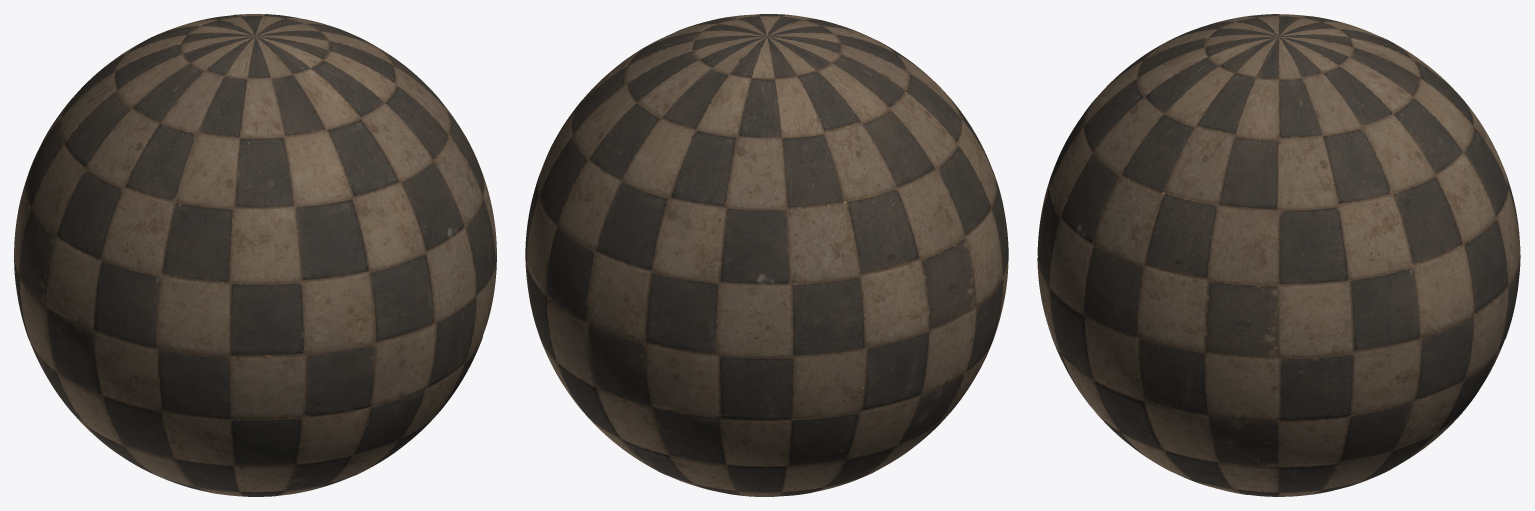
Rendered from checkered_pavement_tiles_1k.gltf.
3 renders of one model, left to right at view 1: azimuth 30°, elevation 25°; view 2: azimuth 150°, elevation 25°; view 3: azimuth 270°, elevation 25°, orthographic.
Parts seen in each view (by area): view 1: sphere_gltf; view 2: sphere_gltf; view 3: sphere_gltf.
Part boxes in pixels (left/top/right/bottom): sphere_gltf: left=14, top=14, right=496, bottom=496; sphere_gltf: left=525, top=14, right=1008, bottom=496; sphere_gltf: left=1037, top=14, right=1520, bottom=496.
Bounding box in the file's own units: 2.01 × 2.01 × 2.
1 material, 1 textured.
